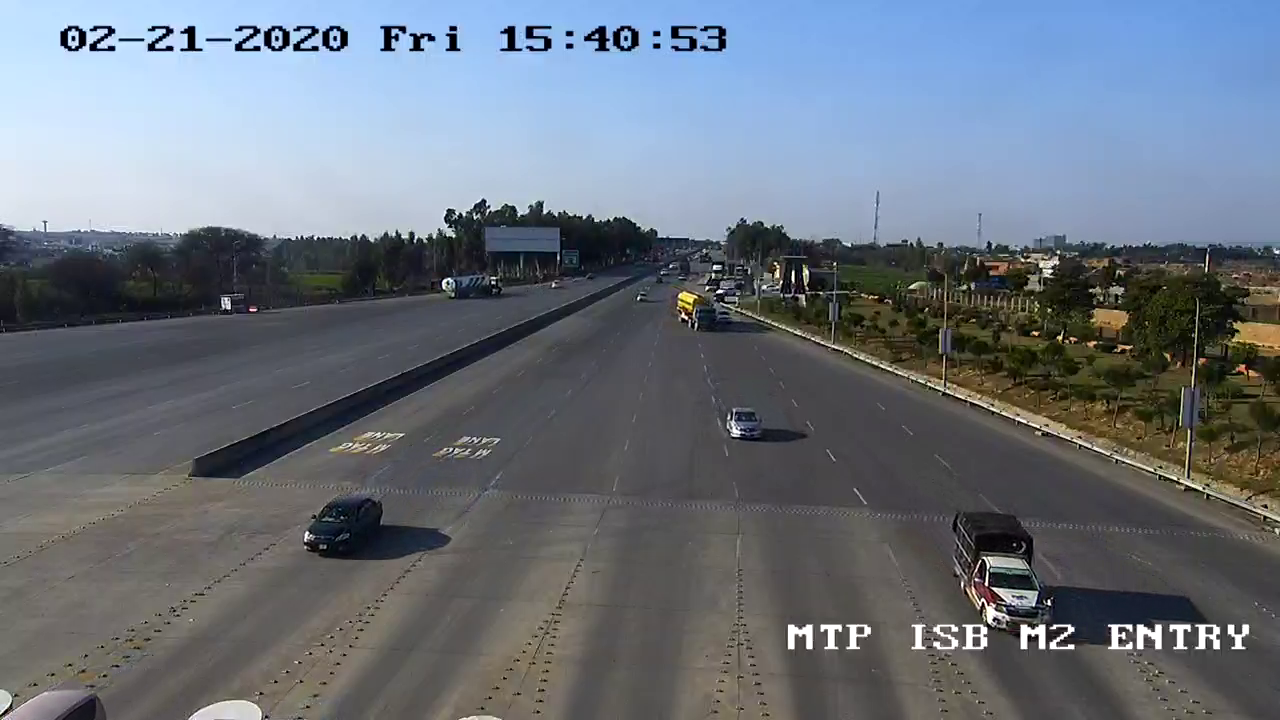f1: (298, 485, 390, 562), (719, 403, 772, 448)
f2: (934, 506, 1066, 628)
